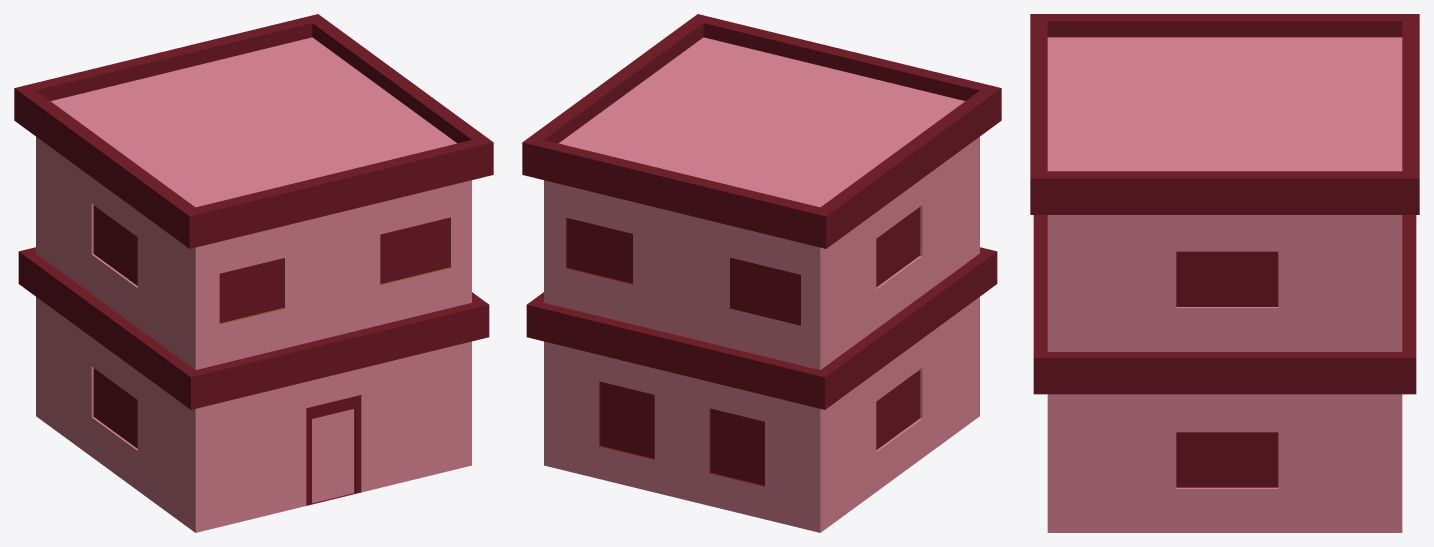
File: House1_M_v1_Carrie.FBX
The picture shows the model from 3 angles, left to right: view 1: azimuth 30°, elevation 25°; view 2: azimuth 150°, elevation 25°; view 3: azimuth 270°, elevation 25°; orthographic projection. The views are drawn at different scales.
Parts seen in each view (by area): view 1: House1; view 2: House1; view 3: House1.
Boxes of the visible parts, x1,y1,x2,y2 form: House1: (14,14,493,532); House1: (522,14,1001,532); House1: (1030,14,1419,532).
Size of the model in its own units: 879 by 900 by 879.
